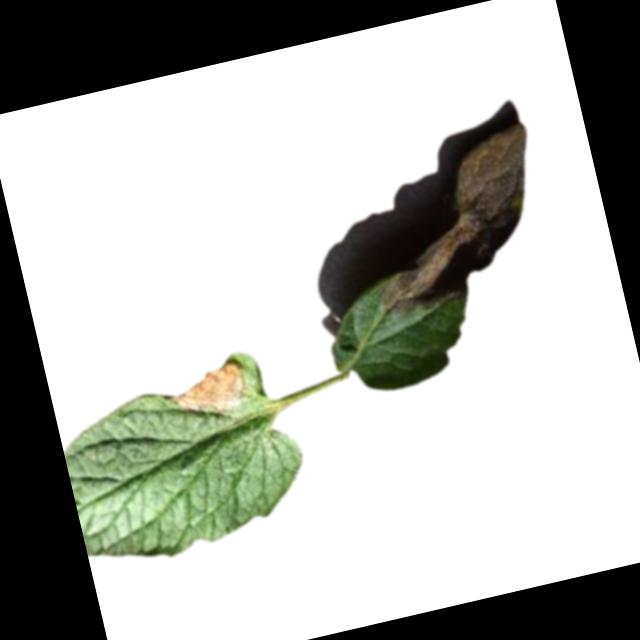Late_blight: (346, 122, 562, 322), (168, 355, 251, 417)
